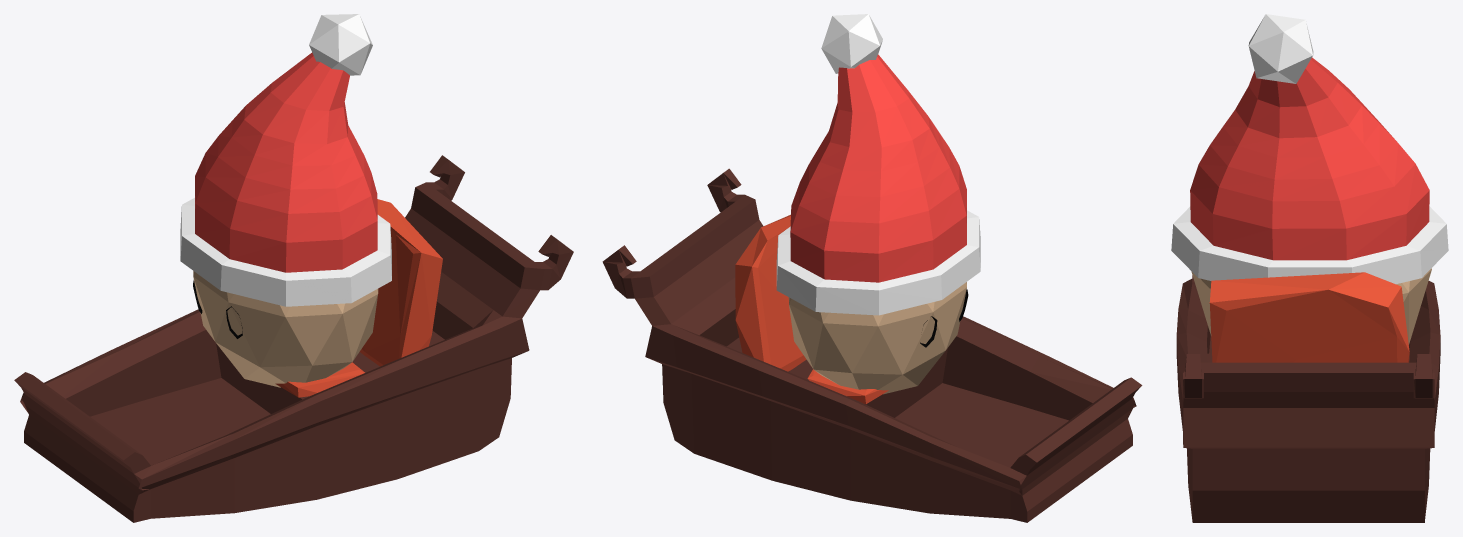
File: chassy.glb
The picture shows the model from 3 angles, left to right: view 1: azimuth 30°, elevation 25°; view 2: azimuth 150°, elevation 25°; view 3: azimuth 270°, elevation 25°; orthographic projection. The views are drawn at different scales.
Visible parts, largest first — view 1: chassy; view 2: chassy; view 3: chassy.
Boxes of the visible parts, x1,y1,x2,y2 form: chassy: (14, 14, 573, 522); chassy: (602, 14, 1142, 522); chassy: (1171, 14, 1448, 522).
Bounding box in the file's own units: 1.18 × 1.09 × 0.5967.
